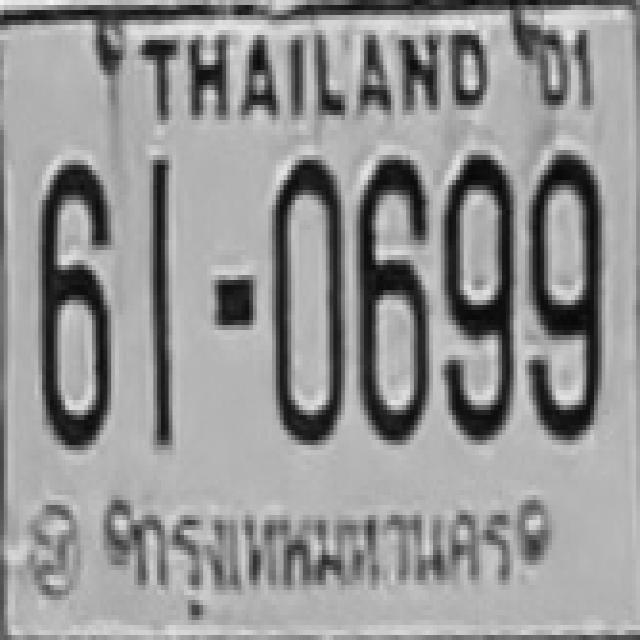0: (270, 155, 343, 440), (441, 150, 514, 340), (527, 148, 600, 328)
6: (36, 160, 110, 445), (354, 155, 428, 440)
9: (441, 150, 514, 435), (525, 148, 598, 432)
Bangkok: (120, 487, 516, 630)
